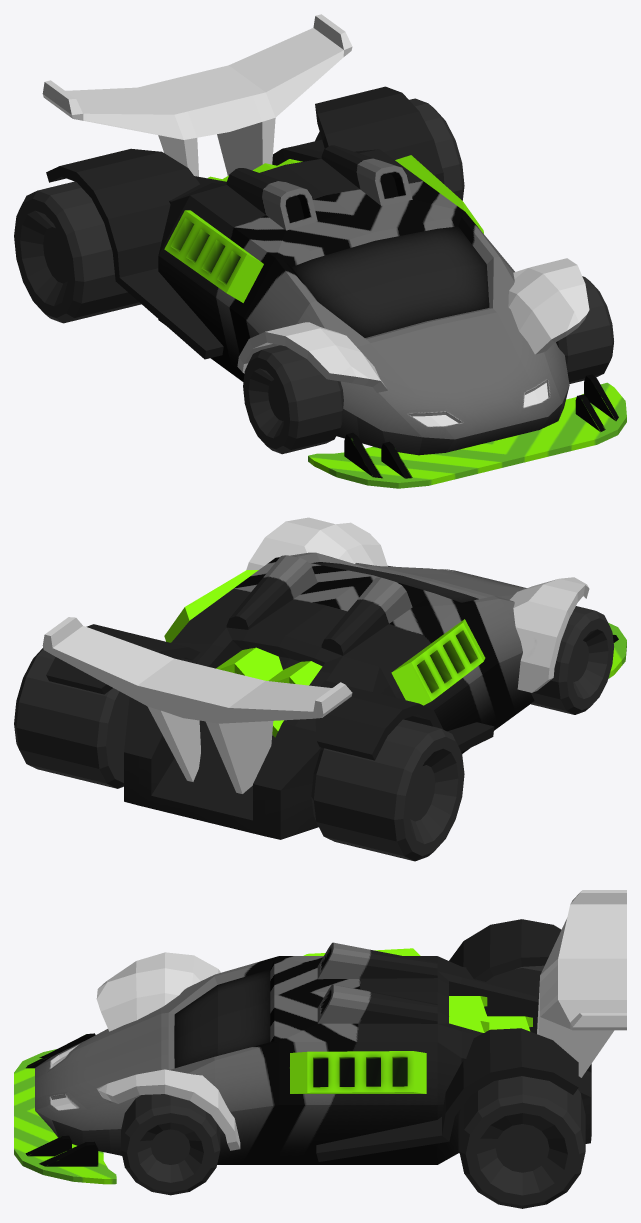
Rendered from tiny-racer-5.glb.
The picture shows the model from 3 angles, top to bottom: view 1: azimuth 30°, elevation 25°; view 2: azimuth 150°, elevation 25°; view 3: azimuth 270°, elevation 25°; orthographic projection. The views are drawn at different scales.
Parts seen in each view (by area): view 1: Cube.199, Cube.196, Cylinder.230, Plane.031, wheel_3, wheel_2, Cylinder.228, Cylinder.229, Cylinder.231, wheel_0, wheel_1; view 2: Cube.199, Cube.196, wheel_3, wheel_1, Cylinder.230, wheel_2, Cylinder.231, Cylinder.229, Cylinder.228, Cube.198, Plane.031; view 3: Cube.199, wheel_1, Cube.196, Cylinder.228, wheel_0, Plane.031, Cylinder.231, Cylinder.230, Cylinder.229, Cube.198, Cube.197.
Boxes of the visible parts, bbox=[...] form: Cube.199: bbox=[158, 139, 569, 455]; Cube.196: bbox=[42, 14, 352, 176]; Cylinder.230: bbox=[46, 148, 223, 359]; Plane.031: bbox=[308, 374, 626, 488]; wheel_3: bbox=[14, 181, 141, 323]; wheel_2: bbox=[243, 345, 343, 454]; Cylinder.228: bbox=[315, 86, 444, 183]; Cylinder.229: bbox=[508, 258, 589, 354]; Cylinder.231: bbox=[237, 322, 387, 392]; wheel_0: bbox=[556, 276, 613, 383]; wheel_1: bbox=[315, 98, 464, 200]; Cube.199: bbox=[124, 552, 534, 839]; Cube.196: bbox=[42, 617, 352, 793]; wheel_3: bbox=[311, 719, 464, 861]; wheel_1: bbox=[14, 648, 129, 788]; Cylinder.230: bbox=[315, 680, 494, 760]; wheel_2: bbox=[531, 606, 613, 714]; Cylinder.231: bbox=[510, 577, 589, 692]; Cylinder.229: bbox=[246, 517, 387, 569]; Cylinder.228: bbox=[46, 624, 199, 694]; Cube.198: bbox=[216, 647, 322, 685]; Plane.031: bbox=[608, 623, 626, 678]; Cube.199: bbox=[35, 942, 591, 1164]; wheel_1: bbox=[459, 1076, 585, 1208]; Cube.196: bbox=[537, 890, 626, 1077]; Cylinder.228: bbox=[316, 1028, 578, 1161]; wheel_0: bbox=[121, 1094, 220, 1195]; Plane.031: bbox=[14, 1033, 116, 1184]; Cylinder.231: bbox=[96, 952, 220, 1031]; Cylinder.230: bbox=[449, 919, 561, 981]; Cylinder.229: bbox=[97, 1069, 240, 1150]; Cube.198: bbox=[449, 996, 489, 1032]; Cube.197: bbox=[484, 1016, 532, 1032].
Bounding box in the file's own units: 0.9677 × 0.4381 × 1.42.
Materials: 1 (1 with a texture image).
